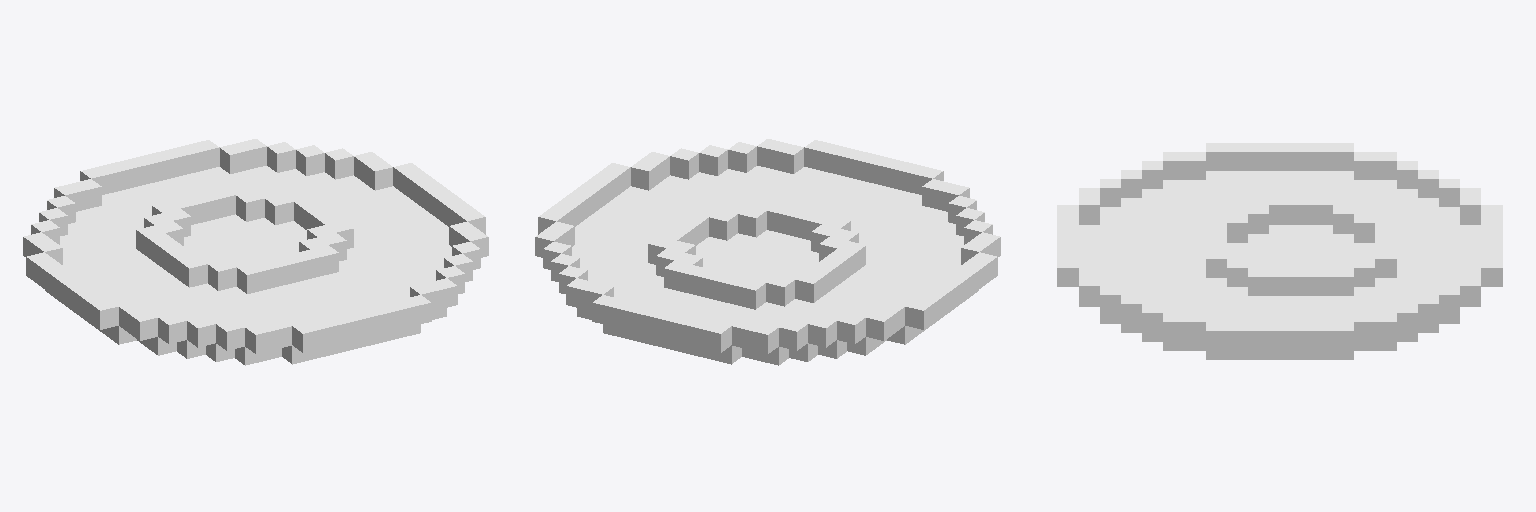
Rendered from bludo.obj.
3 renders of one model, left to right at view 1: azimuth 30°, elevation 25°; view 2: azimuth 150°, elevation 25°; view 3: azimuth 270°, elevation 25°, orthographic.
Bounding box in the file's own units: 21 × 2 × 21.